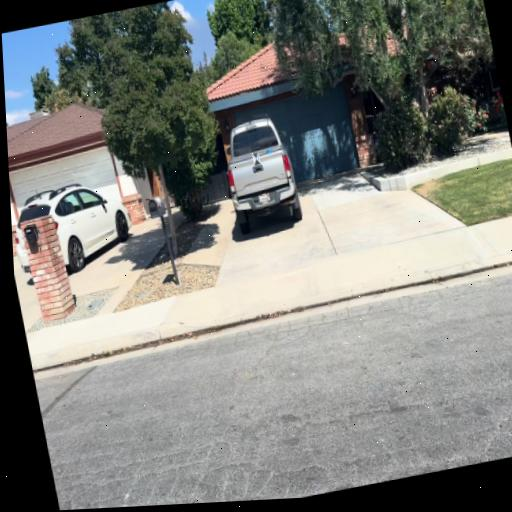target1: (252, 152, 261, 165)
